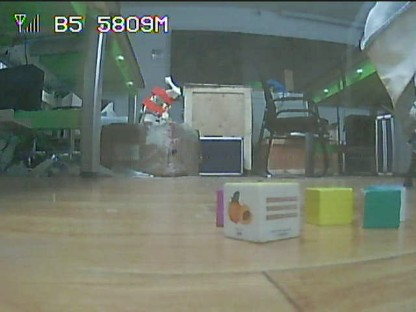g: (365, 191, 398, 225)
